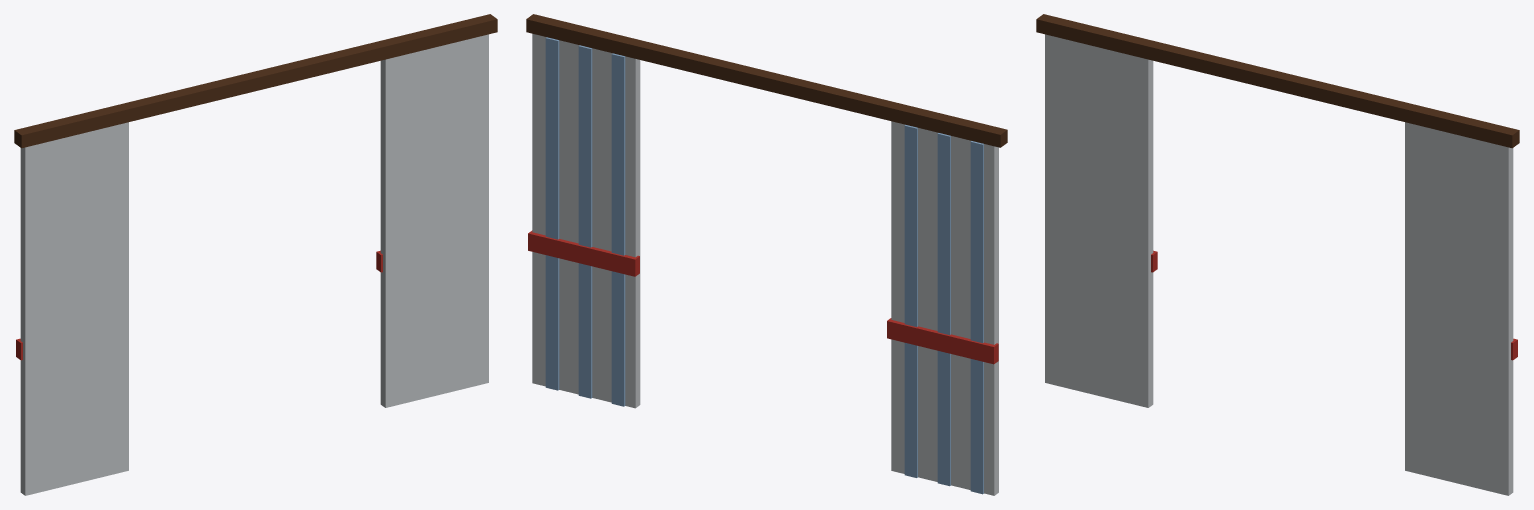
File: xma-curtains.glb
3 views of the same model, side by side, from view 1: azimuth 30°, elevation 25°; view 2: azimuth 150°, elevation 25°; view 3: azimuth 330°, elevation 25° (orthographic).
Parts seen in each view (by area): view 1: box-prop; view 2: box-prop; view 3: box-prop.
Part boxes in pixels (x1,y1,x2,y2): box-prop: (14,14,497,495); box-prop: (526,14,1007,495); box-prop: (1036,14,1519,495).
Bounding box in the file's own units: 2.3 × 1.68 × 0.08.
